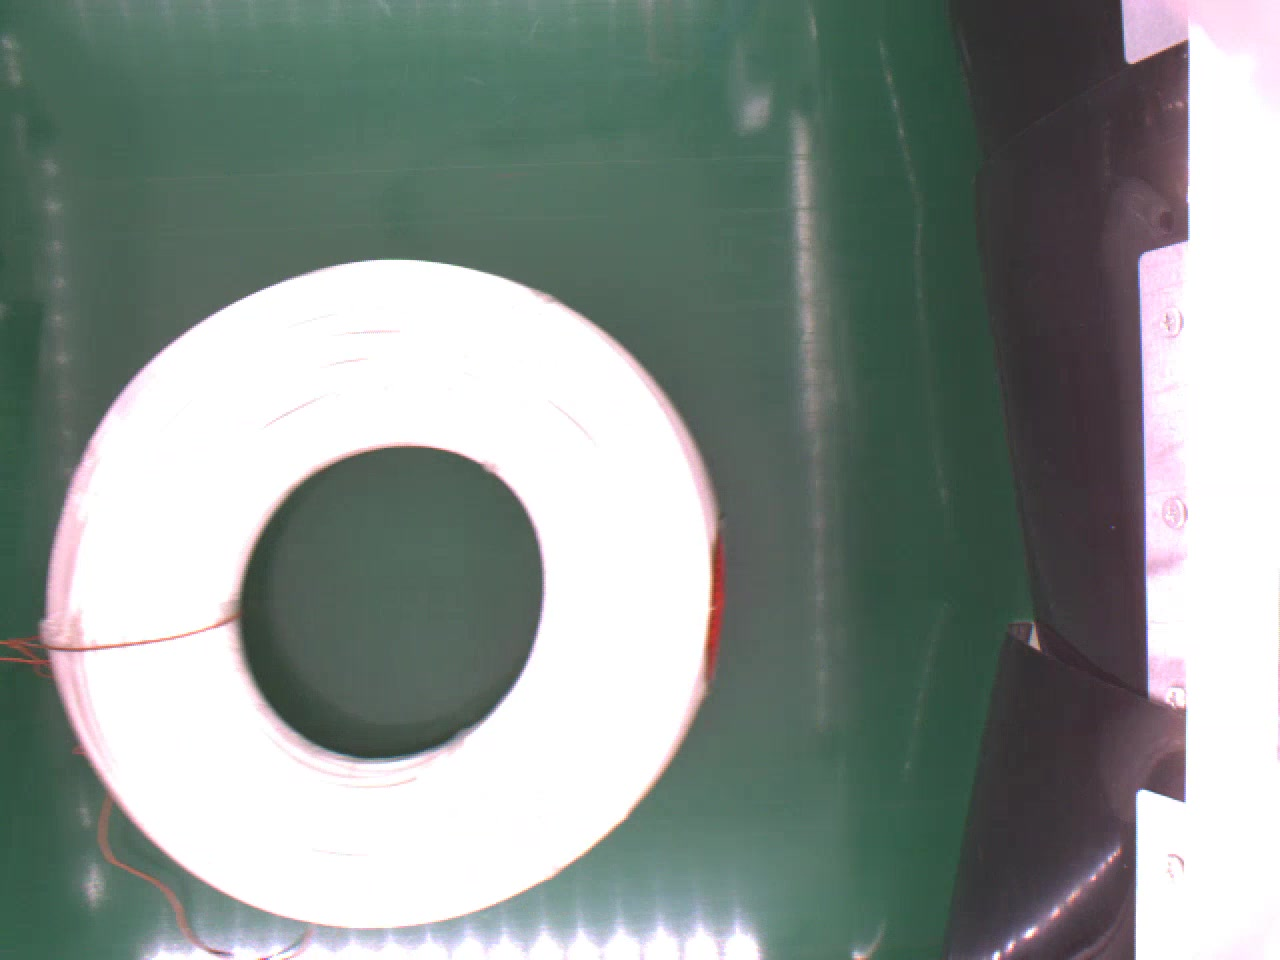white: (39, 256, 725, 933)
